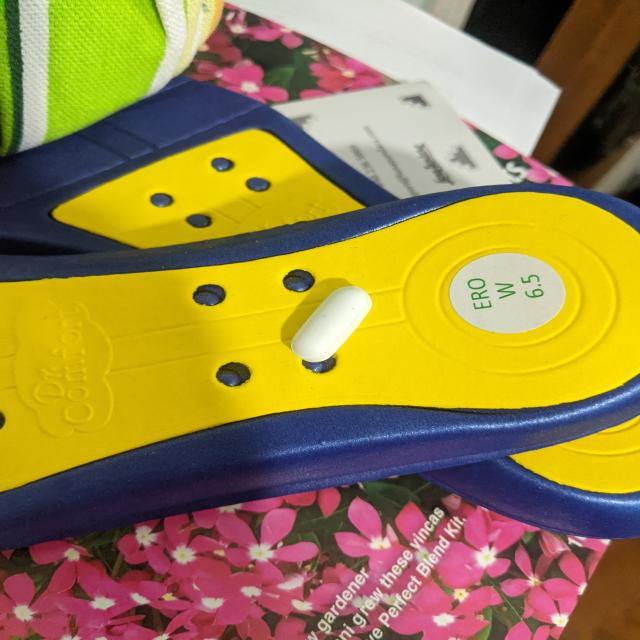non-organic waste: (290, 285, 373, 363)
